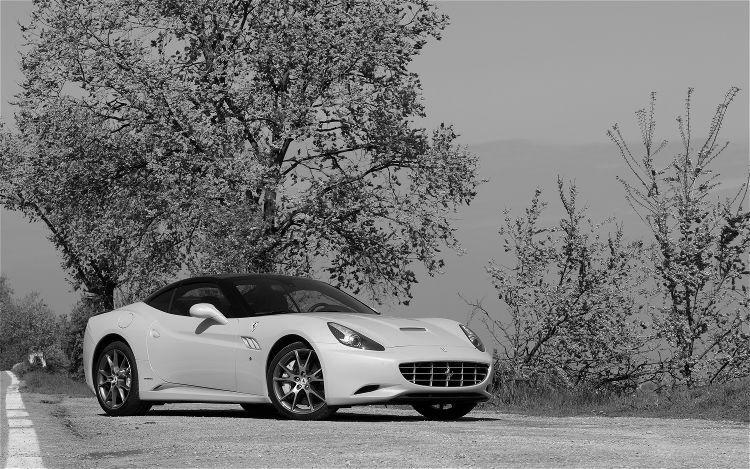car: (85, 273, 493, 425)
